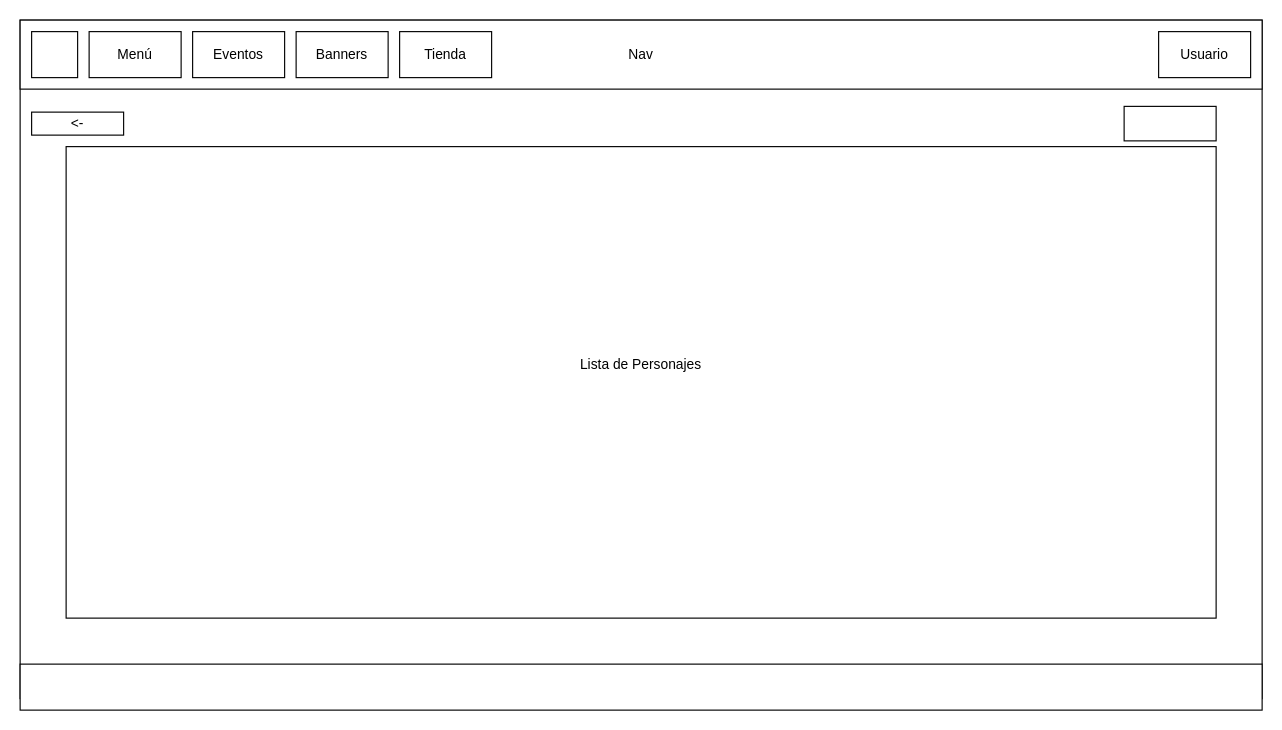
The diagram is 1282 pixels wide and 730 high, and some of its shapes have lost their labels. Here are the shapes that lost their labels. From the top down, the centre of each, then its label:
At point 54,54: "Logo".
At point 1169,123: "Buscar".
At point 640,686: "Footer".
